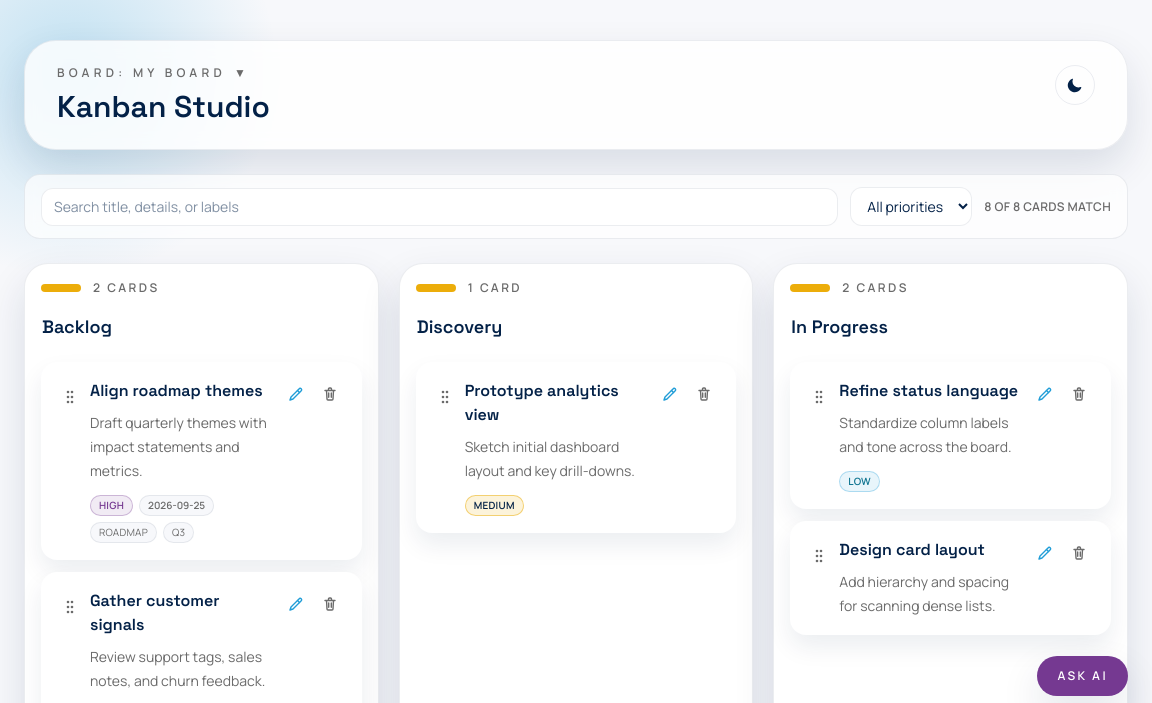
KanbanBoard › saving › cancels an edit without saving
Step 1. Click the button named "edit align roadmap themes" → (296,394), box [281,379,311,409]
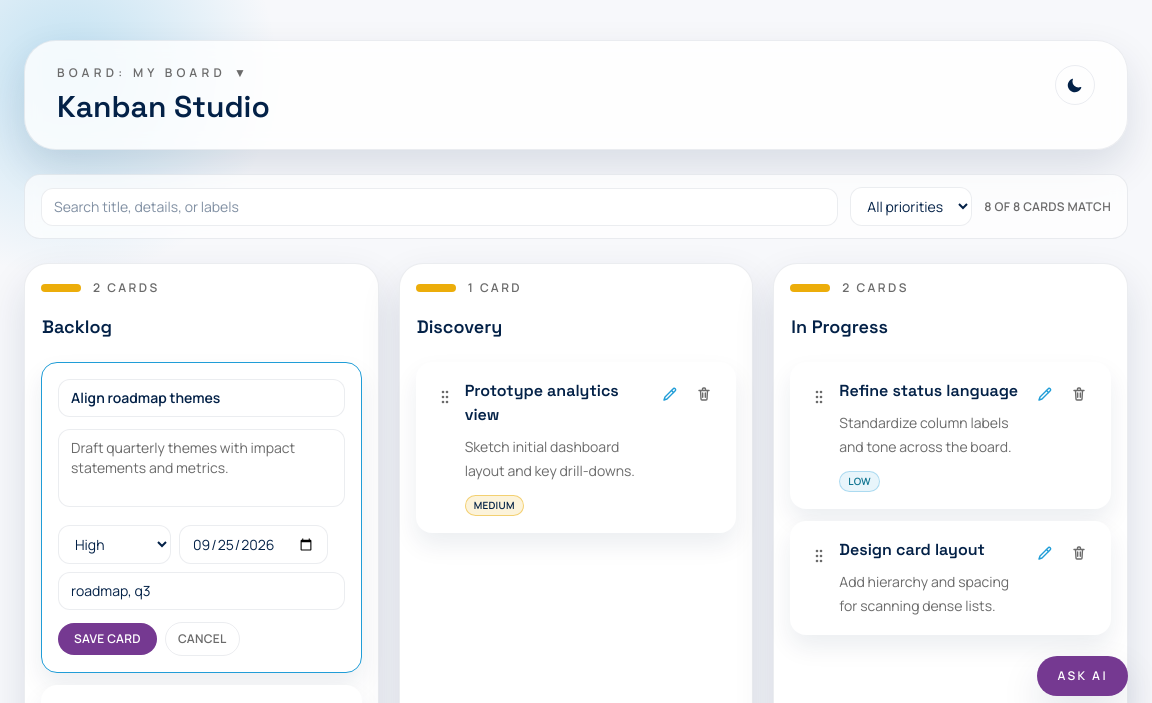
Step 2. Type " changed" into the field named "Card title" → (201,398), box [58,379,345,417]
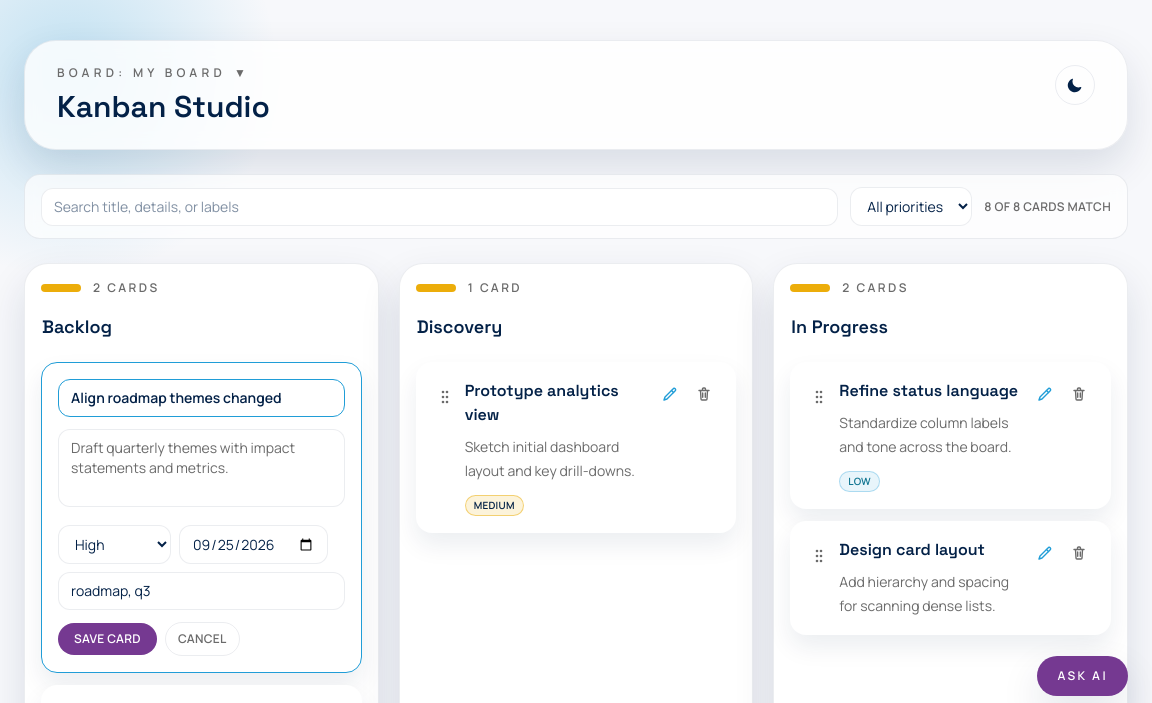
Step 3. Click the button "Cancel" → (202,639), box [165,622,240,656]
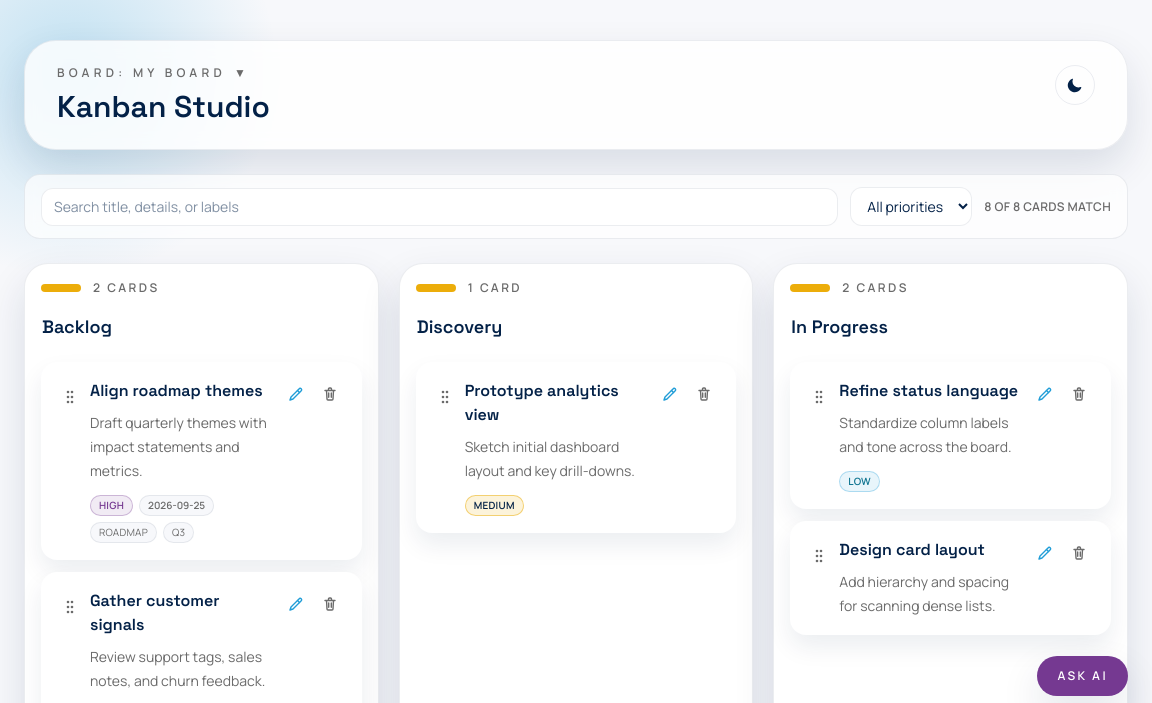
Check: the heading "Align roadmap themes" is shown, box [90,379,273,403]
